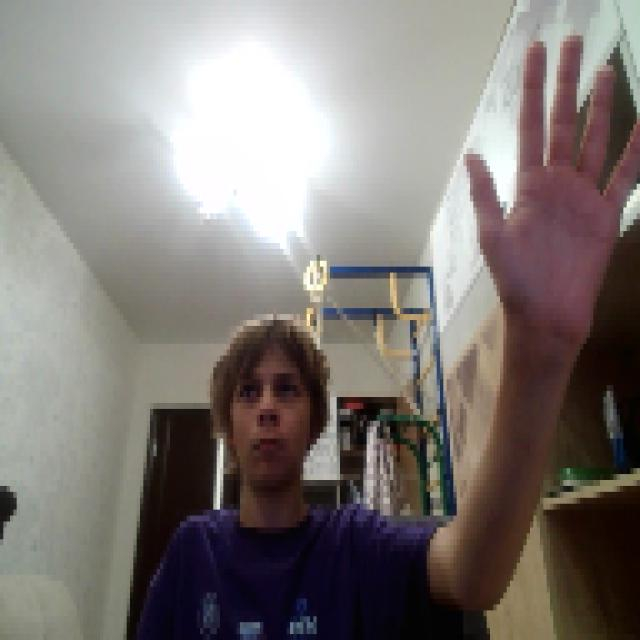hand: (460, 24, 637, 332)
